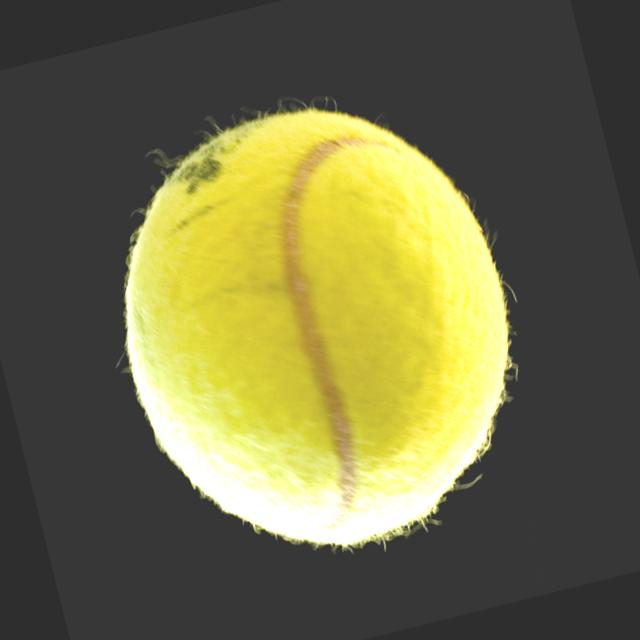Tennis ball: (62, 51, 570, 605)
